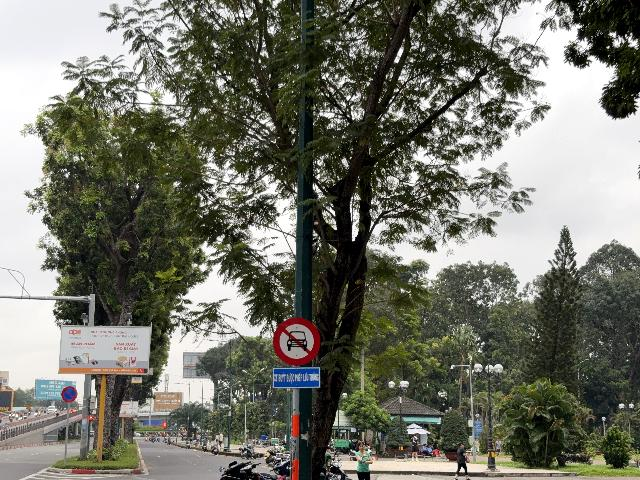cam-o-to: (273, 317, 320, 366)
